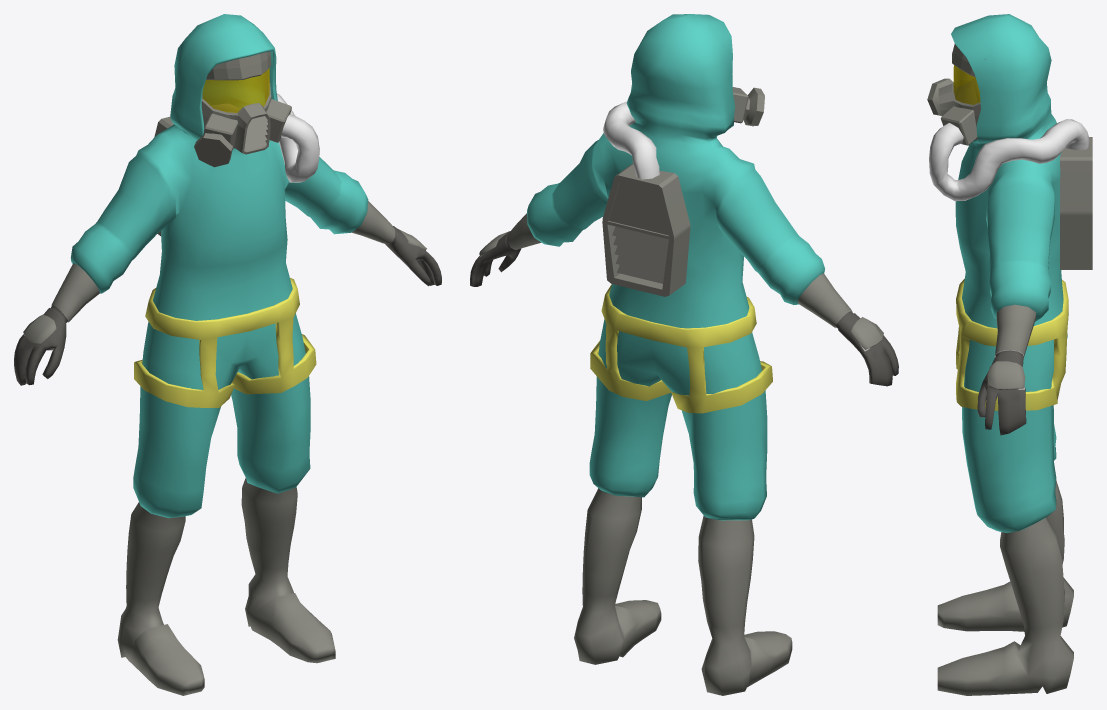
The model's file is police_body_simplecolor.fbx.
3 renders of one model, left to right at view 1: azimuth 30°, elevation 25°; view 2: azimuth 150°, elevation 25°; view 3: azimuth 270°, elevation 25°, orthographic.
Parts seen in each view (by area): view 1: polySurface36, polySurface18, polySurface9, extrudedSurface1, polySurface10, pCube1, pCylinder4; view 2: polySurface36, polySurface28, polySurface18, extrudedSurface1; view 3: polySurface36, extrudedSurface1, polySurface18, polySurface28, polySurface9, pCube1, polySurface10, pCylinder4.
Boxes of the visible parts, x1,y1,x2,y2 form: polySurface36: (14,14,441,695); polySurface18: (134,278,316,407); polySurface9: (201,51,271,154); extrudedSurface1: (213,93,319,182); polySurface10: (202,68,269,112); pCube1: (203,99,291,148); pCylinder4: (194,133,232,167); polySurface36: (470,14,898,695); polySurface28: (602,164,690,296); polySurface18: (590,284,772,413); extrudedSurface1: (603,101,659,179); polySurface36: (937,14,1073,695); extrudedSurface1: (929,119,1089,201); polySurface18: (956,279,1068,410); polySurface28: (1060,137,1092,269); polySurface9: (938,44,985,139); pCube1: (940,87,979,145); polySurface10: (953,65,980,104); pCylinder4: (927,78,953,115).
Bounding box in the file's own units: 130 × 192 × 45.09.
